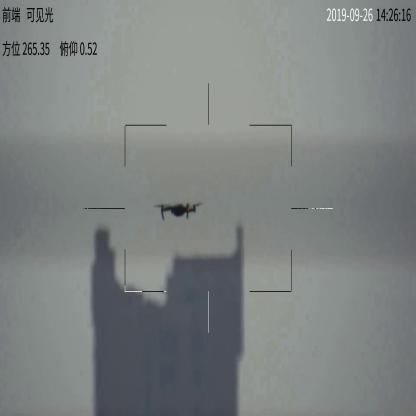uav: (153, 200, 203, 223)
